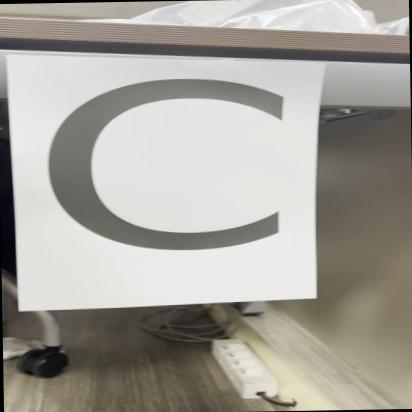seat: (18, 60, 317, 299)
